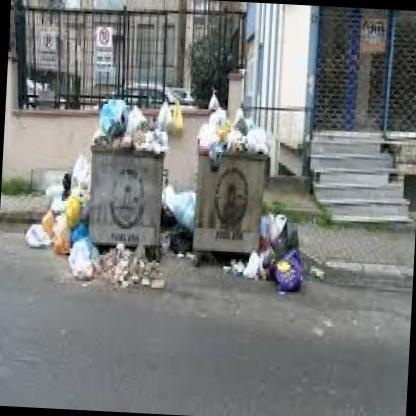Garbage: (180, 108, 280, 152), (96, 98, 169, 154), (61, 161, 91, 224), (264, 212, 302, 258), (71, 233, 104, 282), (161, 191, 194, 232), (52, 195, 72, 260), (237, 247, 266, 288), (67, 248, 92, 291), (122, 270, 164, 295), (18, 216, 48, 251), (97, 98, 132, 127), (278, 249, 302, 290), (159, 107, 187, 134), (212, 116, 233, 140), (209, 148, 228, 170), (37, 212, 55, 234)
